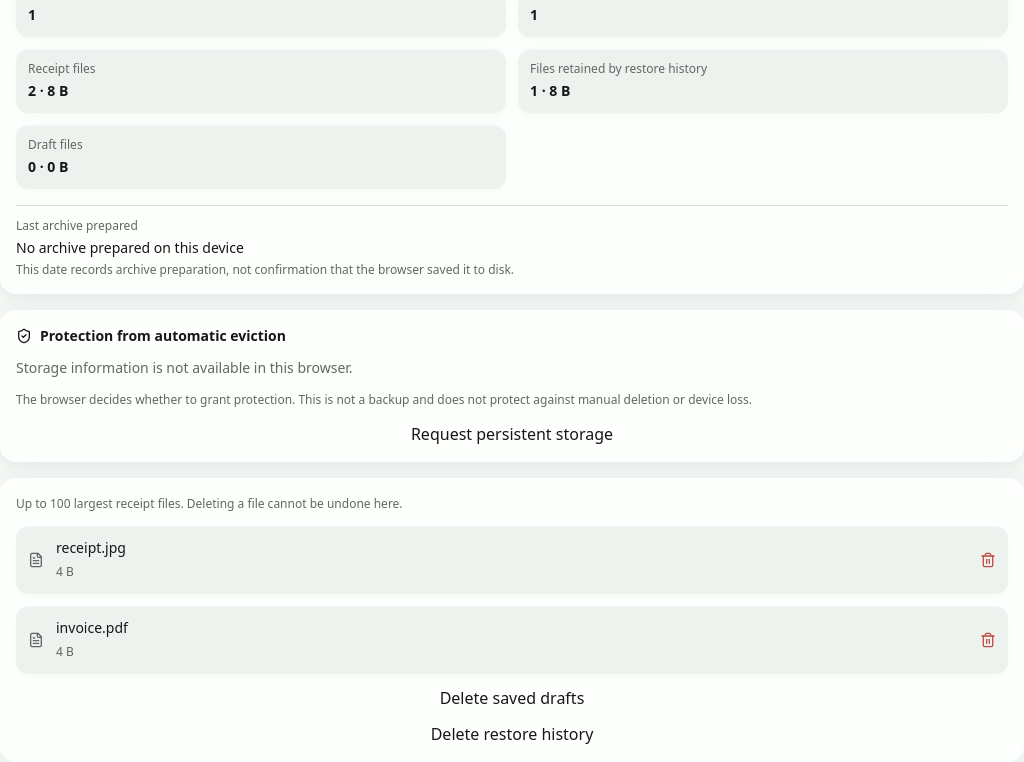
Test case: storage controls › clears restore history without removing transactions or live receipts
(page scrolled)
Expected: the text "receipt.jpg" is shown, [56, 538, 126, 557]
Click the button "Delete restore history" at [512, 734], box [16, 722, 1008, 746]
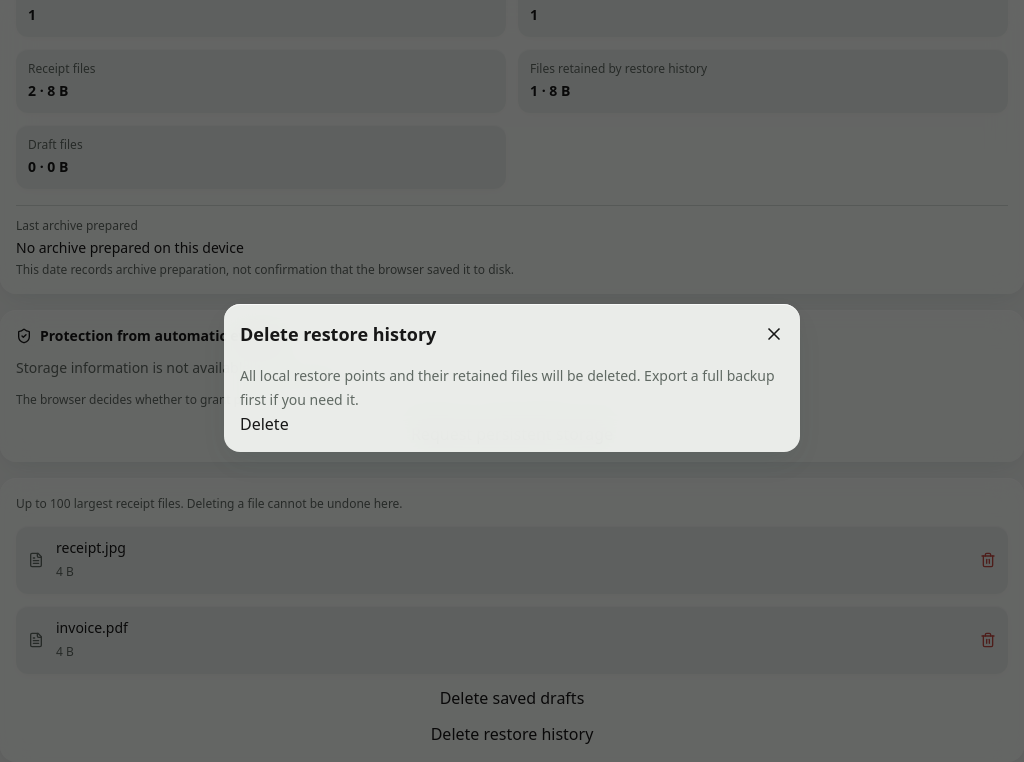
Click the button "Delete" at [264, 424], box [240, 412, 289, 436]
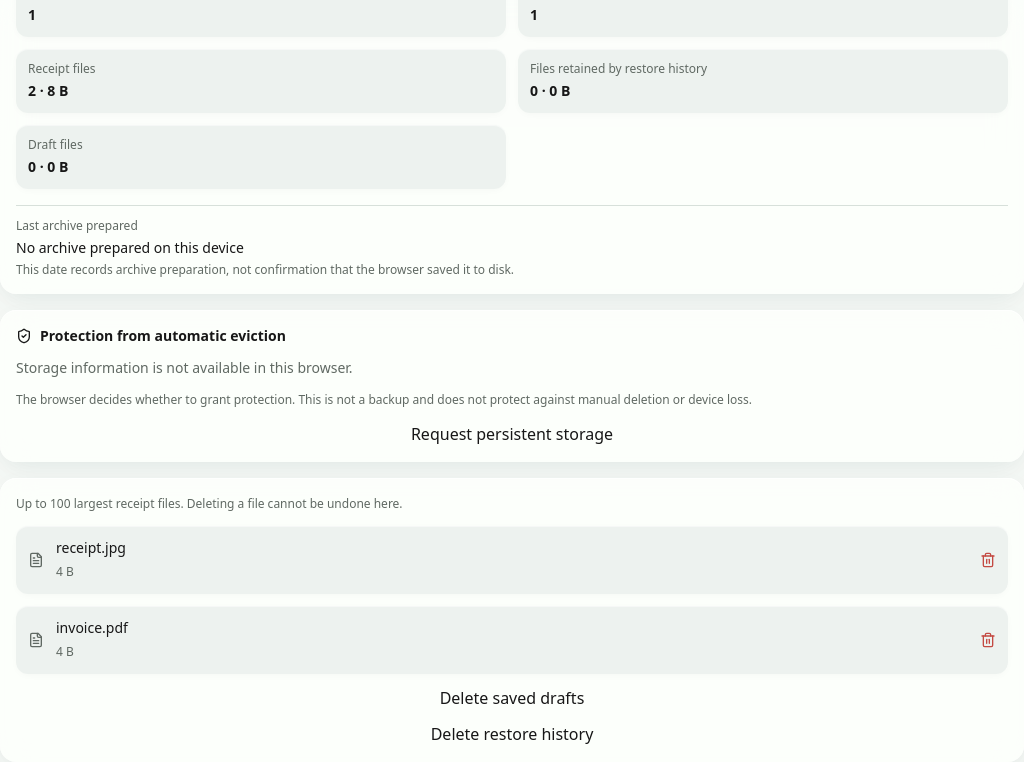
Result: the dialog is gone
